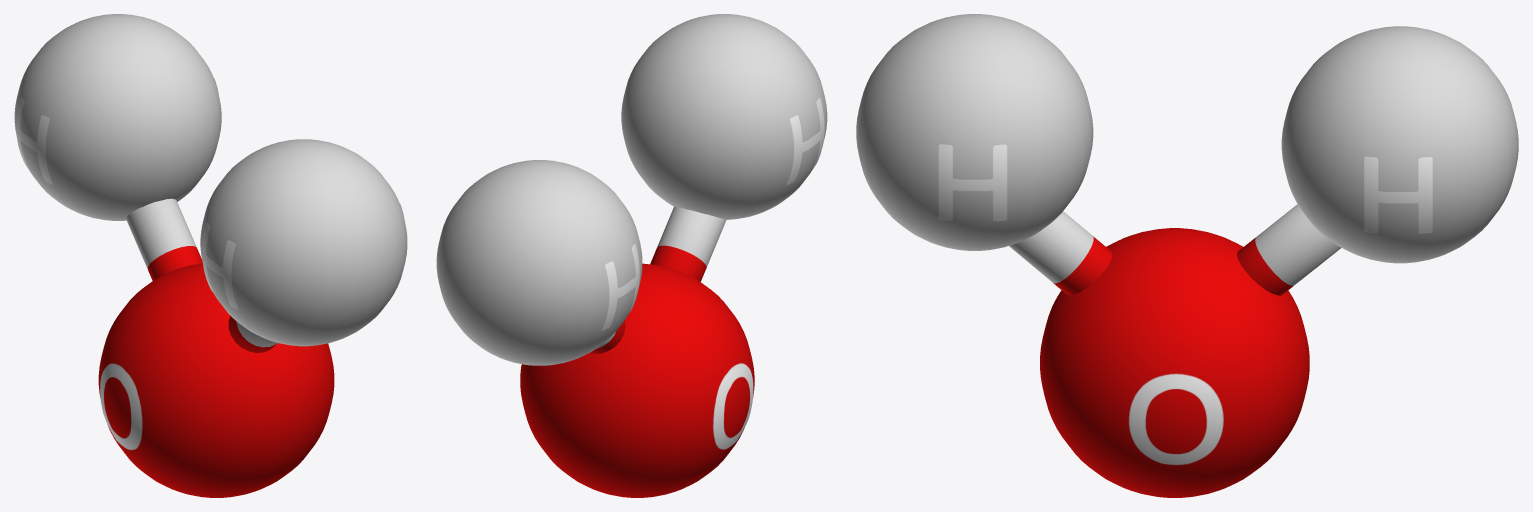
The model's file is oxido_nitroso.glb.
3 views of the same model, side by side, from view 1: azimuth 30°, elevation 25°; view 2: azimuth 150°, elevation 25°; view 3: azimuth 270°, elevation 25° (orthographic). The views are drawn at different scales.
Parts seen in each view (by area): view 1: Mol molde 17; view 2: Mol molde 17; view 3: Mol molde 17.
Boxes of the visible parts, bbox=[...] form: Mol molde 17: bbox=[14, 14, 407, 497]; Mol molde 17: bbox=[436, 14, 827, 497]; Mol molde 17: bbox=[856, 14, 1518, 497].
Bounding box in the file's own units: 0.3477 × 0.654 × 0.8528.
2 materials, 2 textured.
